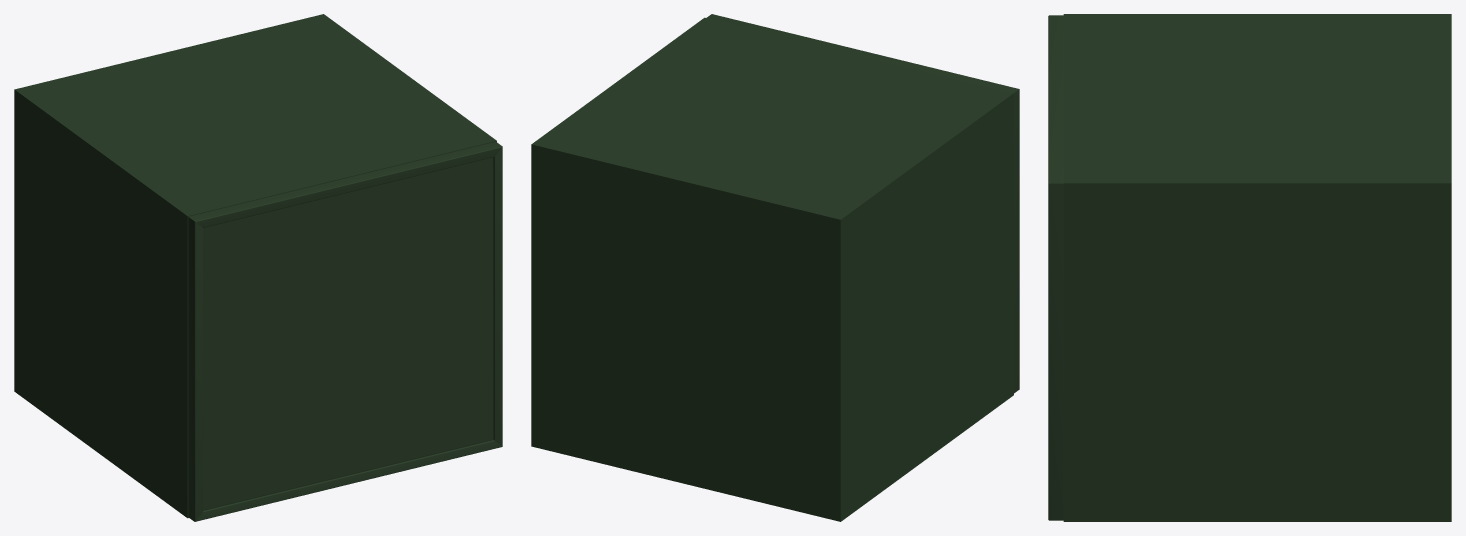
Rendered from oven_top.gltf.
3 views of the same model, side by side, from view 1: azimuth 30°, elevation 25°; view 2: azimuth 150°, elevation 25°; view 3: azimuth 270°, elevation 25° (orthographic). The views are drawn at different scales.
Parts seen in each view (by area): view 1: Rectangle032, Box8222898, Rectangle052; view 2: Rectangle032, Rectangle052; view 3: Rectangle032, Rectangle052.
Boxes of the visible parts, x1,y1,x2,y2 form: Rectangle032: [14, 14, 496, 518]; Box8222898: [203, 157, 492, 509]; Rectangle052: [188, 142, 502, 521]; Rectangle032: [531, 17, 1013, 521]; Rectangle052: [706, 14, 1019, 393]; Rectangle032: [1063, 14, 1451, 521]; Rectangle052: [1048, 15, 1063, 520].
Size of the model in its own units: 0.6 by 0.56 by 0.6042.
